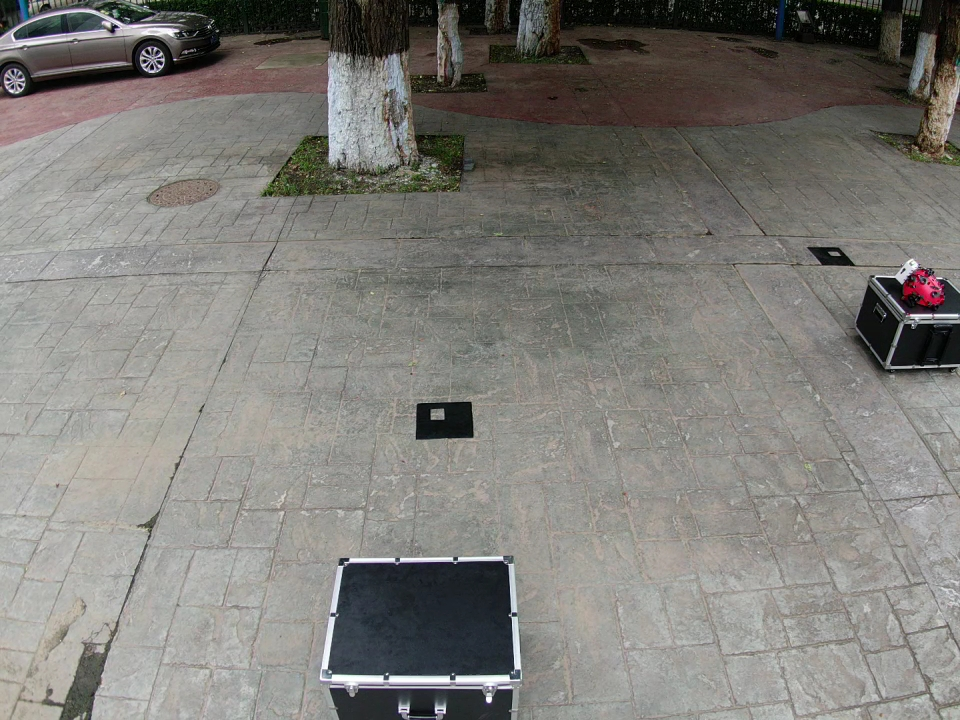box: (320, 555, 522, 720), (856, 275, 960, 373)
helmet: (901, 270, 944, 308)
qrcode: (416, 402, 474, 439), (807, 247, 856, 266)
